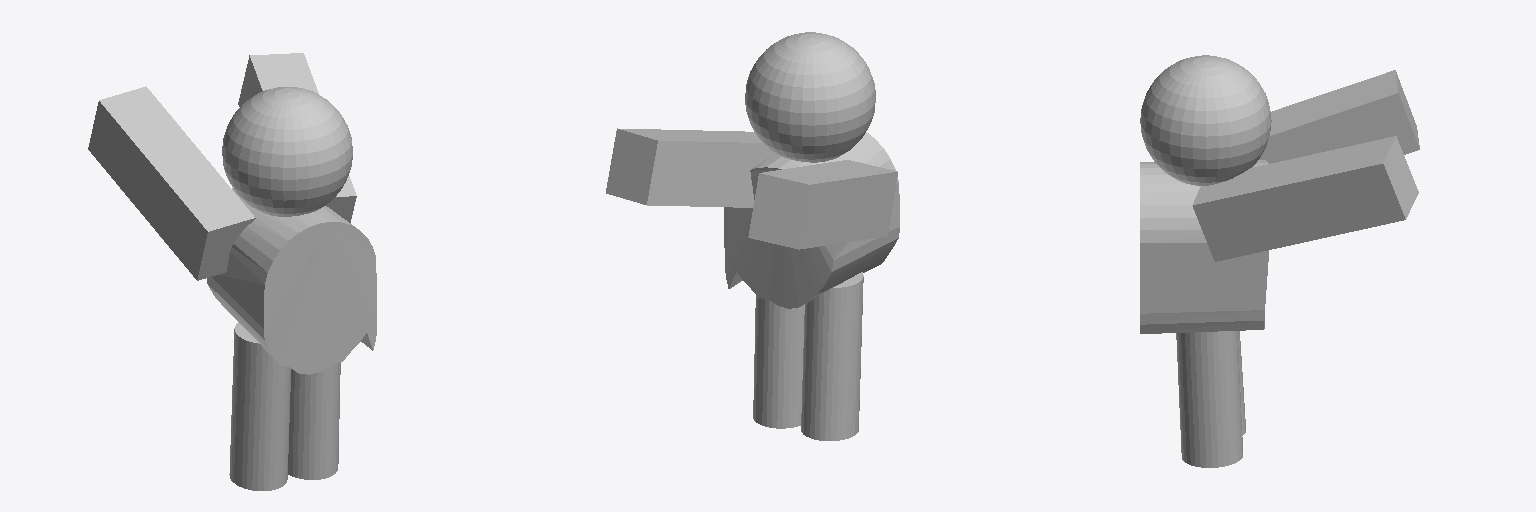
Rendered from Figurine156.obj.
The picture shows the model from 3 angles: view 1: azimuth 30°, elevation 25°; view 2: azimuth 150°, elevation 25°; view 3: azimuth 270°, elevation 25°; orthographic projection.
Parts seen in each view (by area): view 1: Cylinder; view 2: Cylinder; view 3: Cylinder.
Boxes of the visible parts, x1=… form: Cylinder: x1=88, y1=53, x2=376, y2=490; Cylinder: x1=606, y1=32, x2=899, y2=440; Cylinder: x1=1140, y1=55, x2=1419, y2=467.
Bounding box in the file's own units: 3.49 × 6.44 × 4.26.